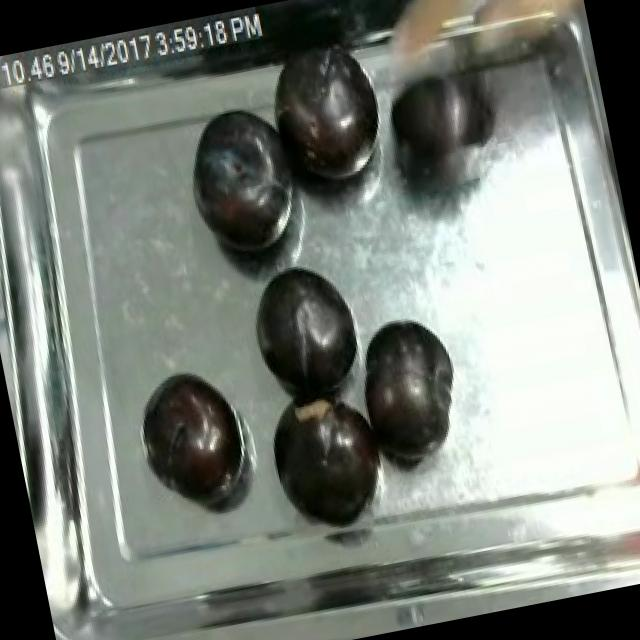Fruit: (252, 27, 402, 202), (172, 94, 316, 270), (370, 50, 511, 204), (238, 252, 372, 412), (260, 381, 396, 536), (344, 306, 469, 468), (130, 361, 256, 512)
